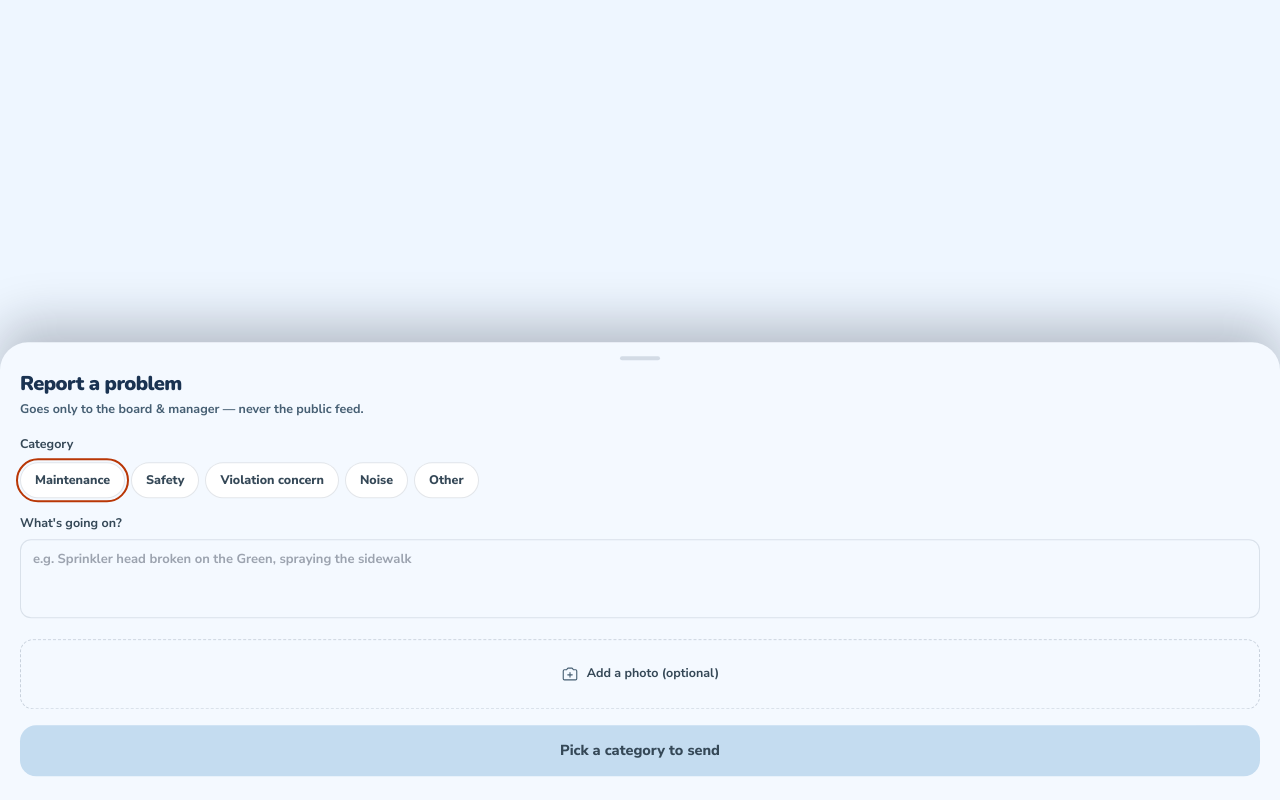
Test case: report submits privately with ticket number
The width and height of the screenshot is (1280, 800).
(page scrolled)
Click the button "Maintenance": (73, 480) [20,462,125,498]
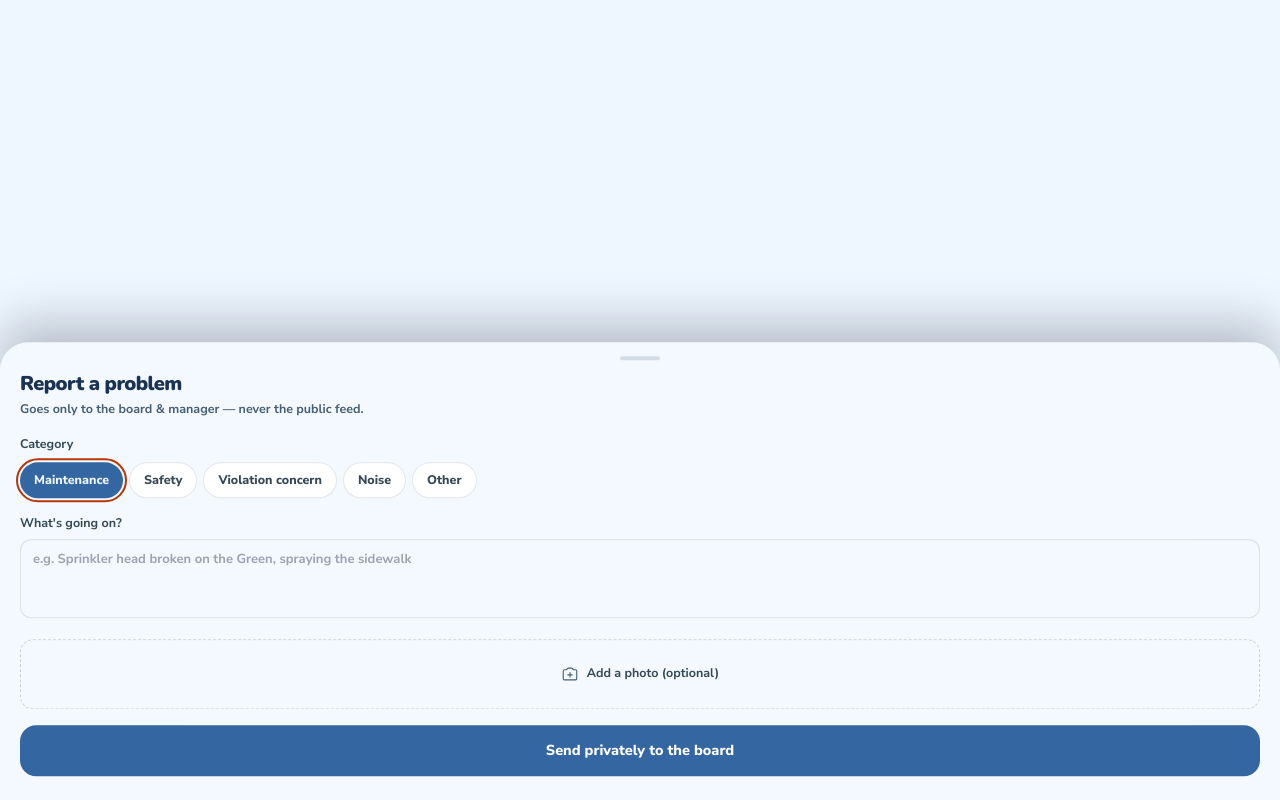
Click the button "Send privately to the board": (640, 750) [20,724,1260,776]
(page scrolled)
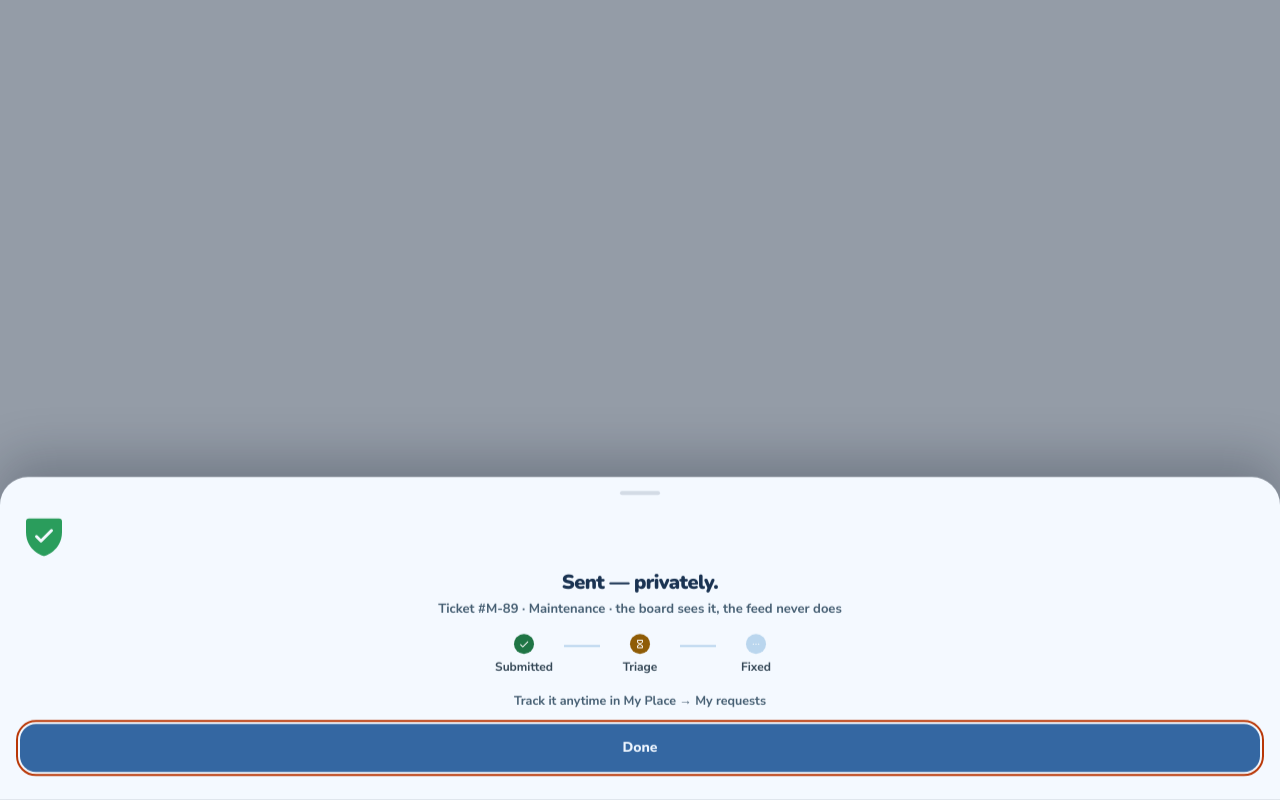
Check: the text "Ticket #M-89" is shown, box [438,600,529,618]
